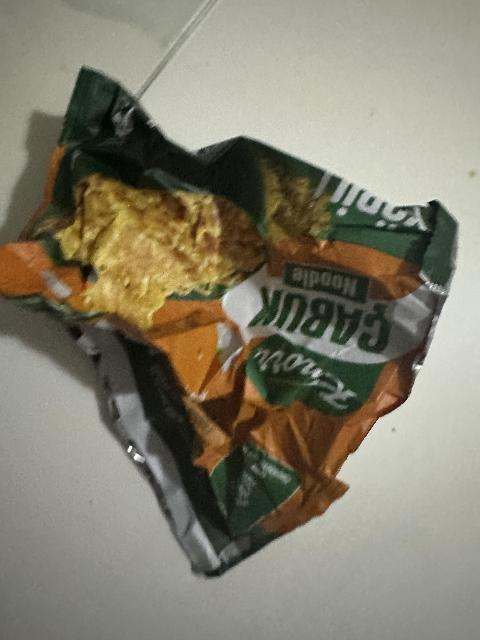Plastik: (0, 60, 467, 570)
